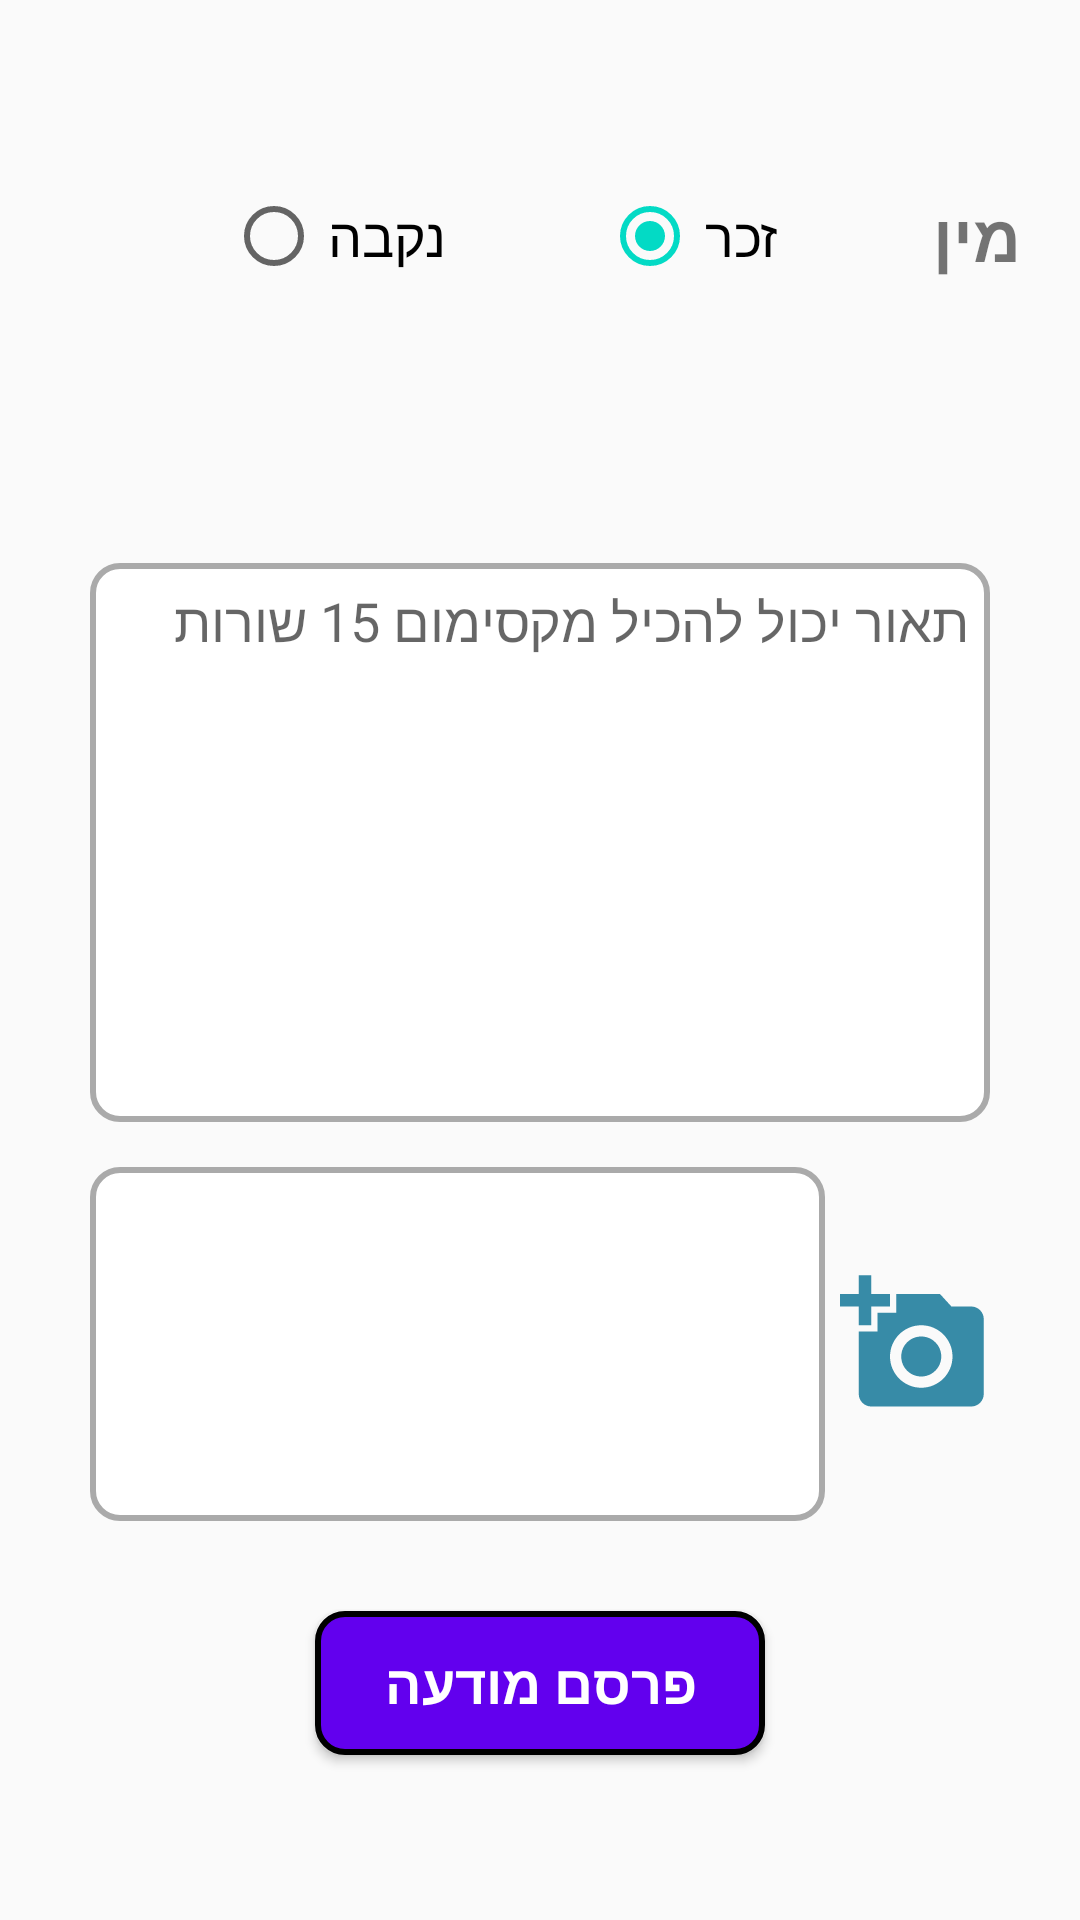

Named icons in this screenshot (1080px x 1920px) and their centers, (x,y):
add photo: (912,1341)
